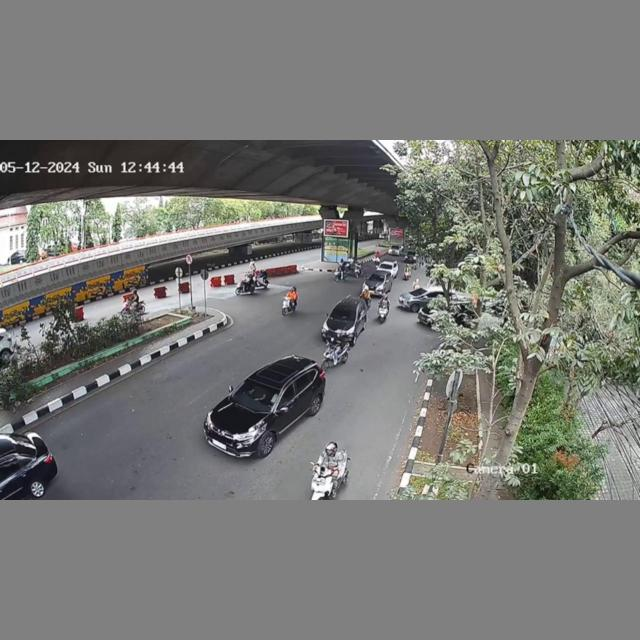windshield: (230, 378, 280, 416), (328, 306, 358, 322)
